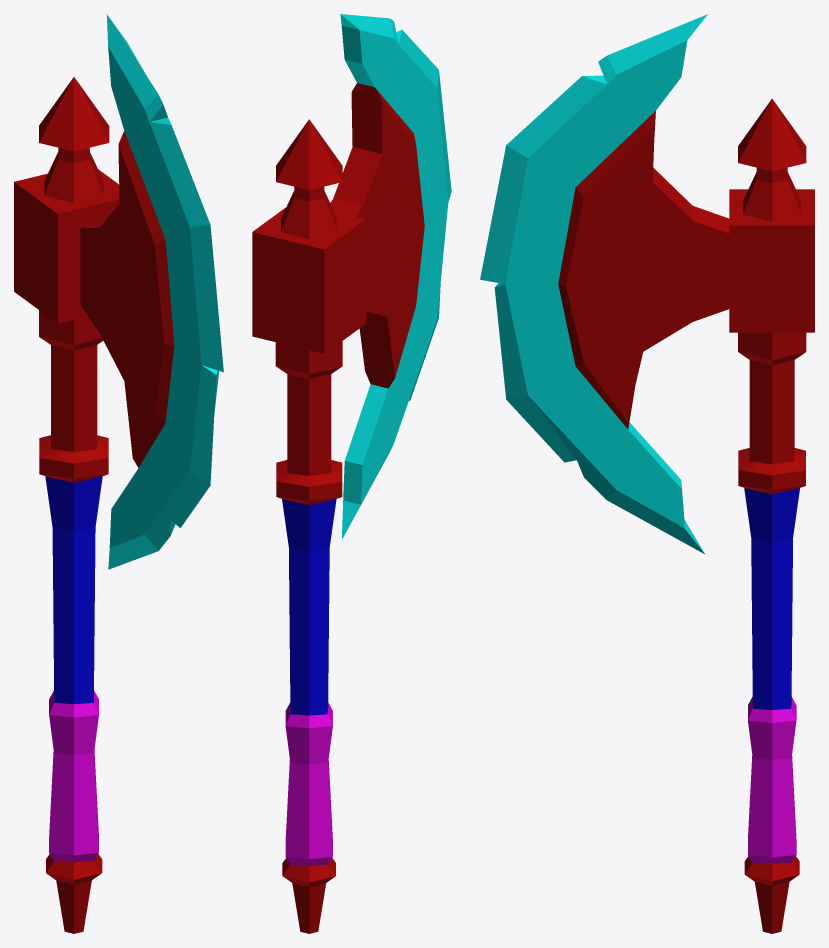
The model's file is Axe_Rare_CorvinianSingle.fbx.
The picture shows the model from 3 angles, left to right: view 1: azimuth 30°, elevation 25°; view 2: azimuth 150°, elevation 25°; view 3: azimuth 270°, elevation 25°; orthographic projection. The views are drawn at different scales.
Visible parts, largest first — view 1: SM_Wep_Ornate_Axe_01; view 2: SM_Wep_Ornate_Axe_01; view 3: SM_Wep_Ornate_Axe_01.
Boxes of the visible parts, x1,y1,x2,y2 form: SM_Wep_Ornate_Axe_01: [14, 14, 223, 933]; SM_Wep_Ornate_Axe_01: [252, 14, 451, 933]; SM_Wep_Ornate_Axe_01: [480, 14, 814, 933].
Size of the model in its own units: 0.0714 by 0.8419 by 0.2792.
